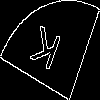K: (24, 25, 63, 81)
